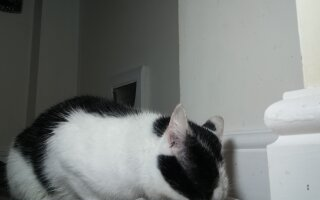bad: (7, 97, 234, 196)
